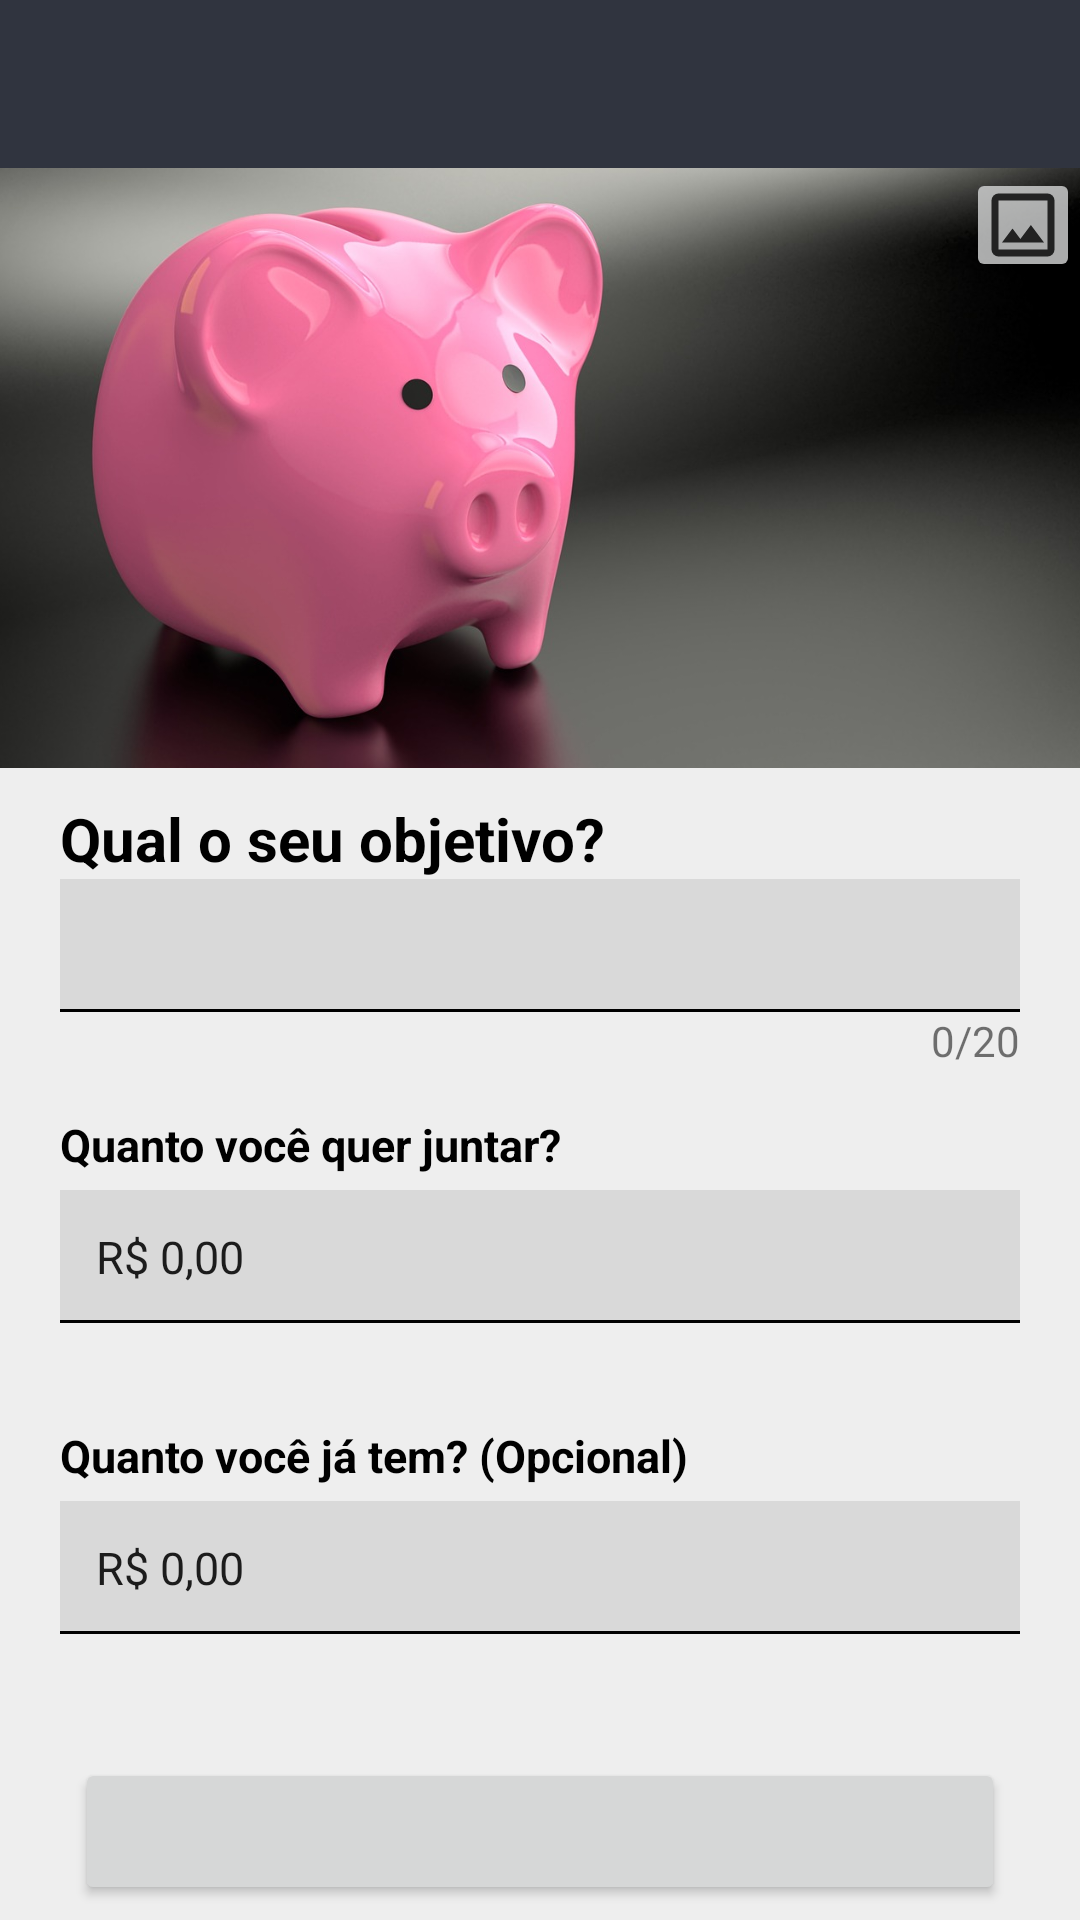

Point at icon controls on the screen. Image size 1080px×1920px, points as point (x, y).
photo: point (1023, 225)
